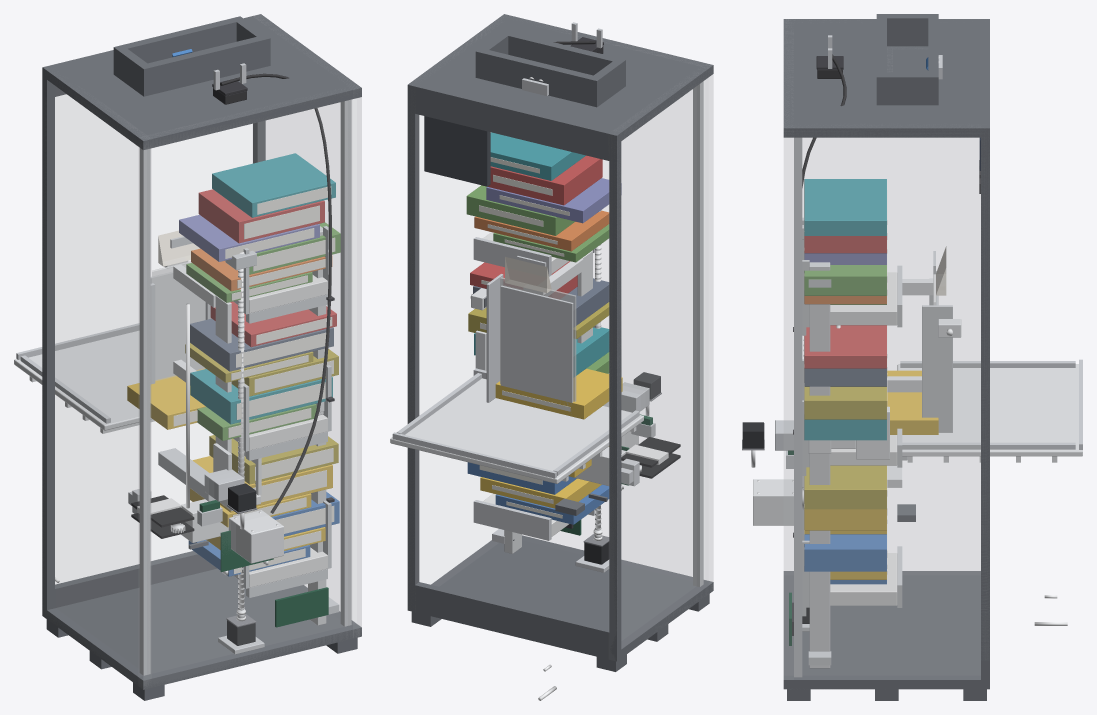
The model's file is smart_bookshelf_v01.glb.
The picture shows the model from 3 angles, left to right: view 1: azimuth 30°, elevation 25°; view 2: azimuth 150°, elevation 25°; view 3: azimuth 270°, elevation 25°; orthographic projection. The views are drawn at different scales.
Visible parts, largest first — view 1: Cabinet_Back, Cabinet_SideLeft, Cabinet_Bottom, Cabinet_Top, Cabinet_PostFL, Main_Platform, Frame_Rail_L, Frame_Rail_R, Book_L3_06, Top_Entry_WallB, Push_Plate, Cabinet_BeamF_Low (+63 smaller); view 2: Cabinet_SideLeft, Cabinet_SideRight, Cabinet_Bottom, Cabinet_Top, Main_Platform, Push_Plate_Face, Cabinet_PostFL, Cabinet_PostFR, Frame_Rail_L, Cabinet_BeamF_Low, Cabinet_BeamF, Control_Panel (+31 smaller); view 3: Cabinet_SideRight, Cabinet_Top, Cabinet_Bottom, Main_Platform, Frame_Rail_R, Cabinet_PostFR, Book_L3_06, Guide_Rail_Right, Limit_L_Bracket, Book_L1_06, Book_L2_06, Book_L1_03 (+24 smaller).
Boxes of the visible parts, x1,y1,x2,y2 form: Cabinet_Back: (139, 98, 361, 675); Cabinet_SideLeft: (55, 87, 151, 667); Cabinet_Bottom: (42, 568, 361, 689); Cabinet_Top: (42, 14, 361, 150); Cabinet_PostFL: (42, 65, 54, 613); Main_Platform: (14, 330, 151, 430); Frame_Rail_L: (139, 148, 150, 675); Frame_Rail_R: (340, 99, 351, 626); Book_L3_06: (212, 153, 335, 217); Top_Entry_WallB: (139, 34, 270, 96); Push_Plate: (152, 261, 205, 380); Cabinet_BeamF_Low: (44, 551, 217, 609); Cabinet_SideLeft: (622, 76, 712, 639); Cabinet_SideRight: (420, 116, 496, 583); Cabinet_Bottom: (407, 535, 713, 661); Cabinet_Top: (407, 14, 713, 143); Main_Platform: (390, 378, 643, 483); Push_Plate_Face: (500, 285, 573, 413); Cabinet_PostFL: (609, 131, 621, 660); Cabinet_PostFR: (407, 81, 419, 611); Frame_Rail_L: (693, 81, 703, 586); Cabinet_BeamF_Low: (407, 582, 621, 652); Cabinet_BeamF: (407, 94, 621, 162); Control_Panel: (424, 116, 490, 186); Cabinet_SideRight: (784, 138, 980, 674); Cabinet_Top: (783, 19, 989, 137); Cabinet_Bottom: (783, 571, 989, 689); Main_Platform: (897, 364, 1082, 456); Frame_Rail_R: (794, 137, 802, 677); Cabinet_PostFR: (981, 124, 989, 660); Book_L3_06: (804, 179, 886, 235); Guide_Rail_Right: (809, 262, 830, 668); Limit_L_Bracket: (922, 305, 952, 432); Book_L1_06: (804, 465, 886, 509); Book_L2_06: (804, 325, 886, 368); Book_L1_03: (804, 534, 886, 571).
Bounding box in the file's own units: 500 × 1318 × 661.
